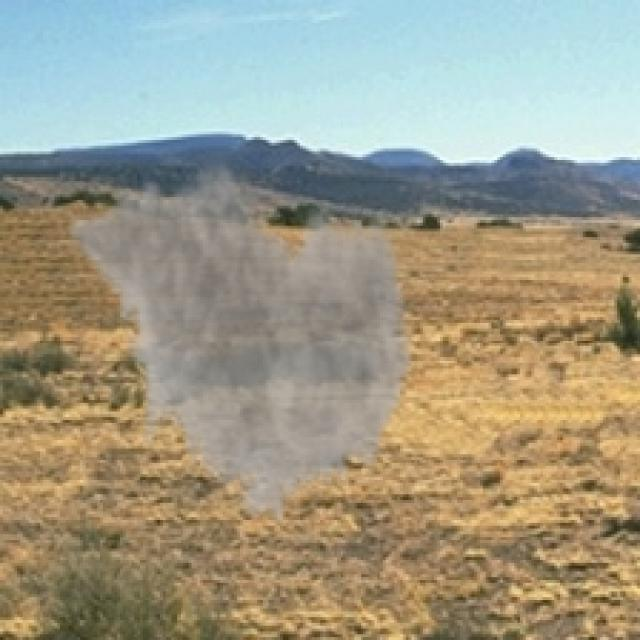Smoke: (62, 152, 418, 534)
